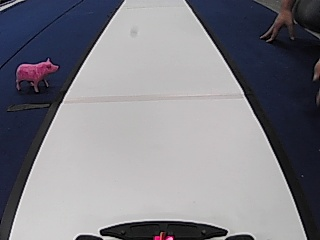pig: (13, 55, 59, 93)
